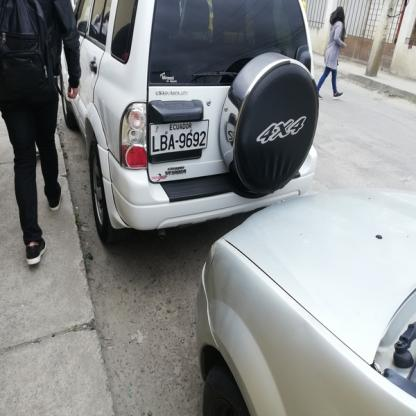Placa: (147, 119, 206, 157)
